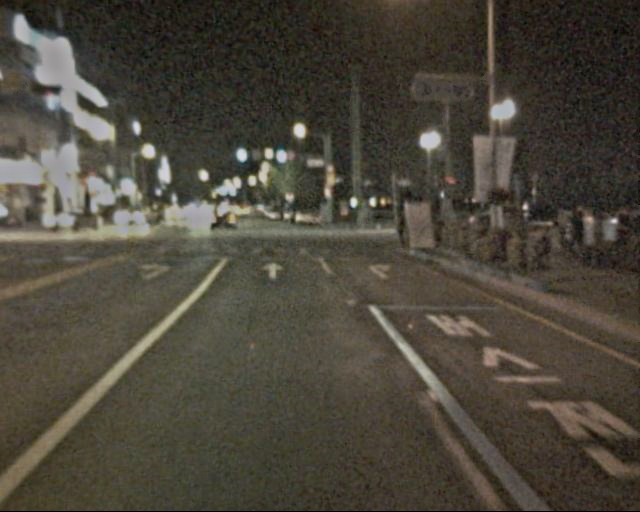person: (564, 209, 588, 267), (546, 212, 567, 264), (391, 214, 411, 263)
